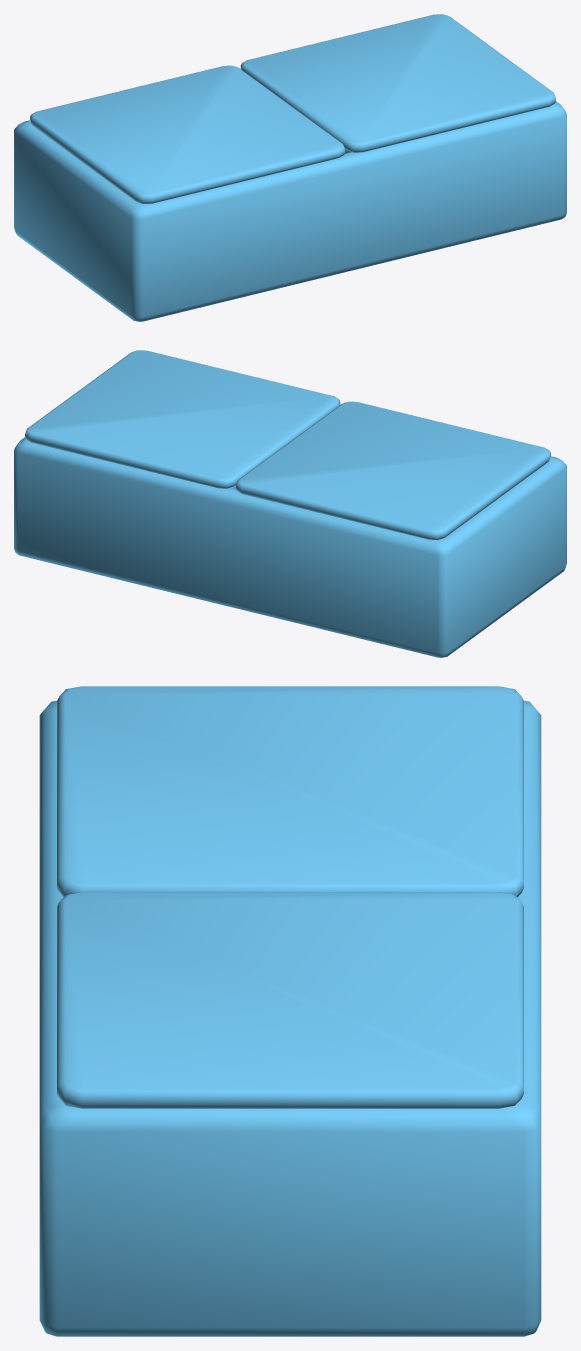
File: Block-I-Blue.fbx
3 views of the same model, one above another, from view 1: azimuth 30°, elevation 25°; view 2: azimuth 150°, elevation 25°; view 3: azimuth 270°, elevation 25° (orthographic). The views are drawn at different scales.
Parts seen in each view (by area): view 1: Block-I-Blue, Cube.036; view 2: Block-I-Blue, Cube.036; view 3: Cube.036, Block-I-Blue.
Boxes of the visible parts, box(x1,y1,x2,y2) form: Block-I-Blue: box(14, 101, 566, 321); Cube.036: box(30, 14, 555, 203); Block-I-Blue: box(14, 437, 566, 657); Cube.036: box(25, 350, 550, 539); Cube.036: box(57, 686, 523, 1108); Block-I-Blue: box(39, 700, 541, 1336).
Bounding box in the file's own units: 200 × 54.11 × 100.
